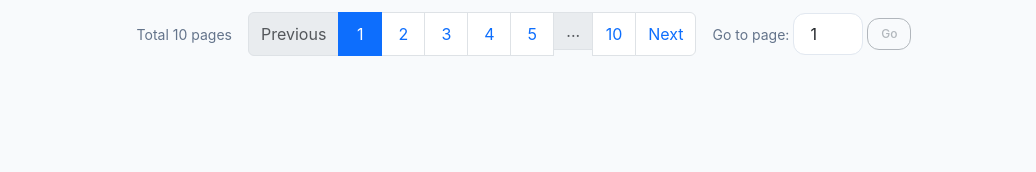
Pagination Component › Jump input › should clear error when valid input is entered
The image size is (1036, 172).
Replace the text in the number field named "Go to page" with "15" at (828, 34), box [793, 13, 863, 55]
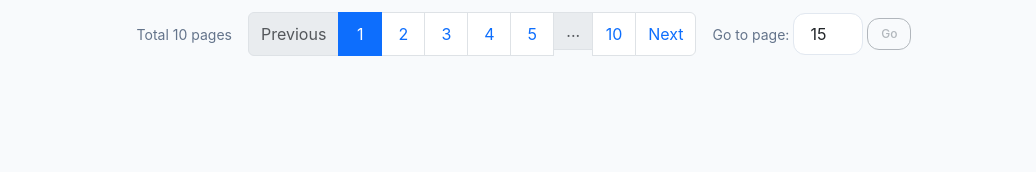
Press Enter in the number field named "Go to page", box [793, 13, 863, 55]
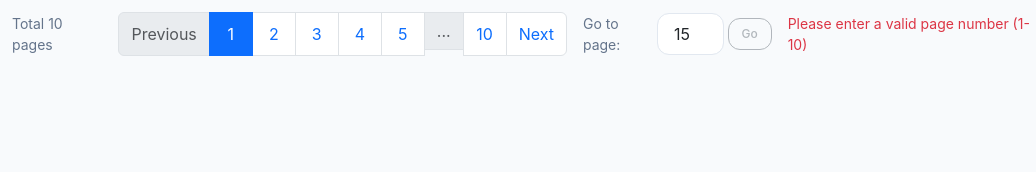
Expected: the message "Please enter a valid page number (1-10)" is shown, [788, 13, 1035, 55]
Enter valid input
Replace the text in the number field named "Go to page" with "5" at (690, 34), box [657, 13, 724, 55]
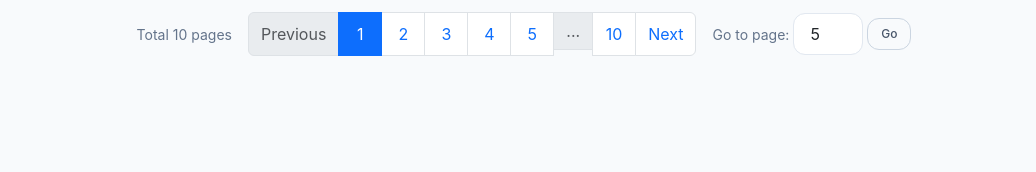
Expected: the message "Please enter a valid page number (1-10)" is gone
